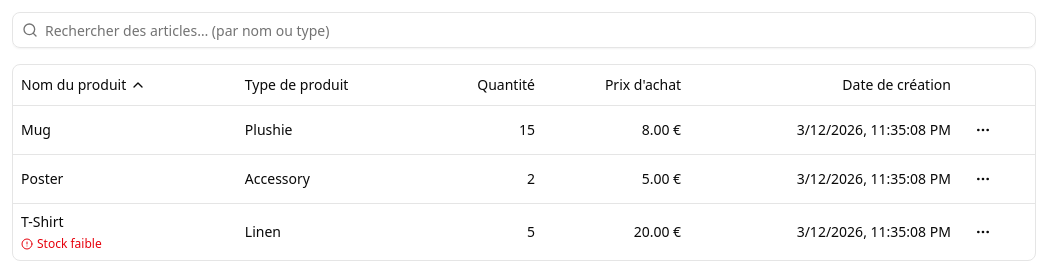
Test: StockTable › sorts by productType string values in both directions
first click → ASC
Click the text "Type de produit". click: coordinates (297, 84)
box: [245,75,348,94]
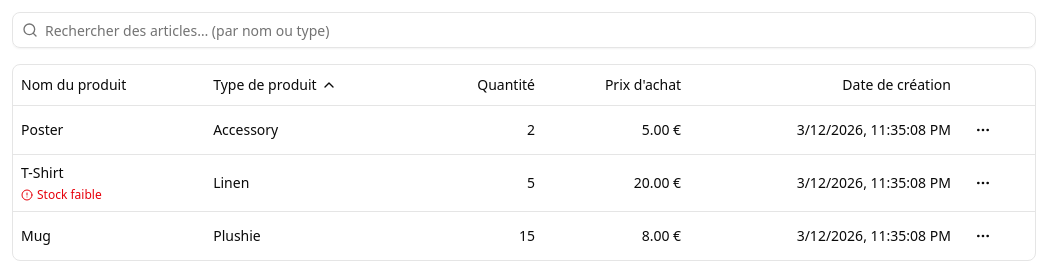
Expected: the row "Poster Accessory 2 5.00 € 3/12/2026, 11:35:08 PM" is shown, [13,105,1035,154]
second click → DESC
Click the text "Type de produit". click: coordinates (275, 84)
box: [213,75,337,94]
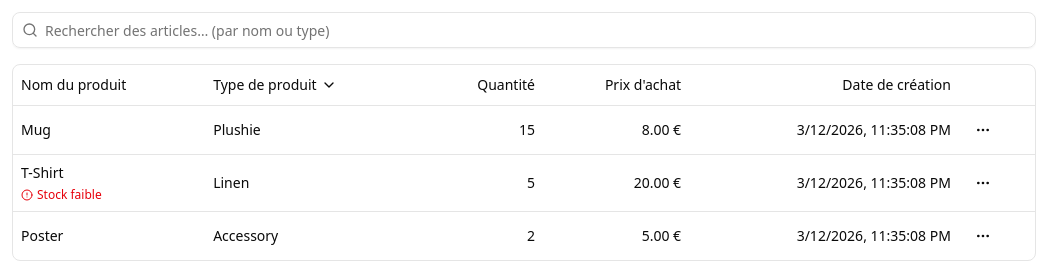
Expected: the row "Mug Plushie 15 8.00 € 3/12/2026, 11:35:08 PM" is shown, [13,105,1035,154]
